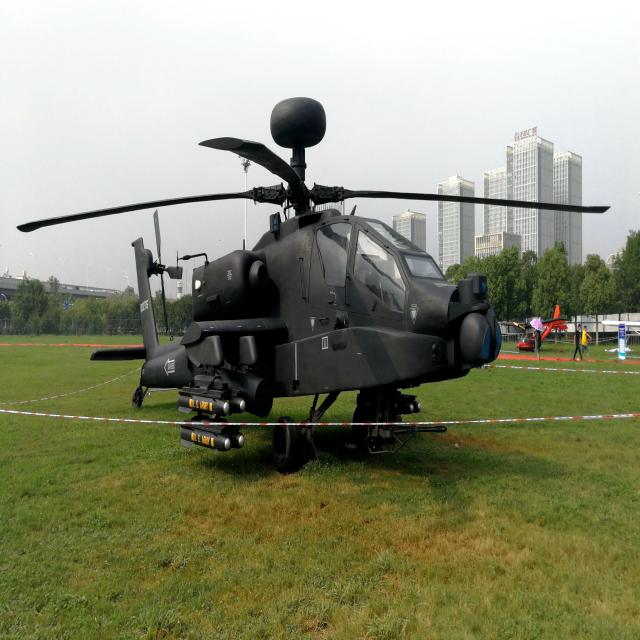MIL_HELO: (12, 87, 614, 464)
